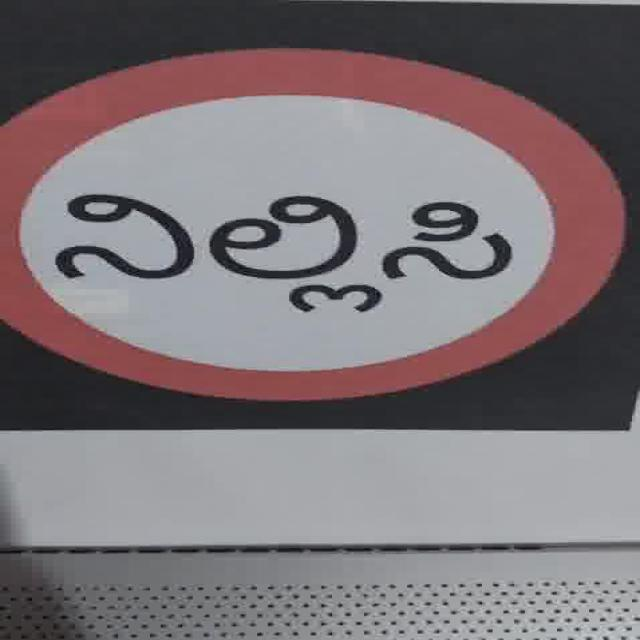kannadastop: (1, 47, 632, 424), (51, 190, 515, 313)
